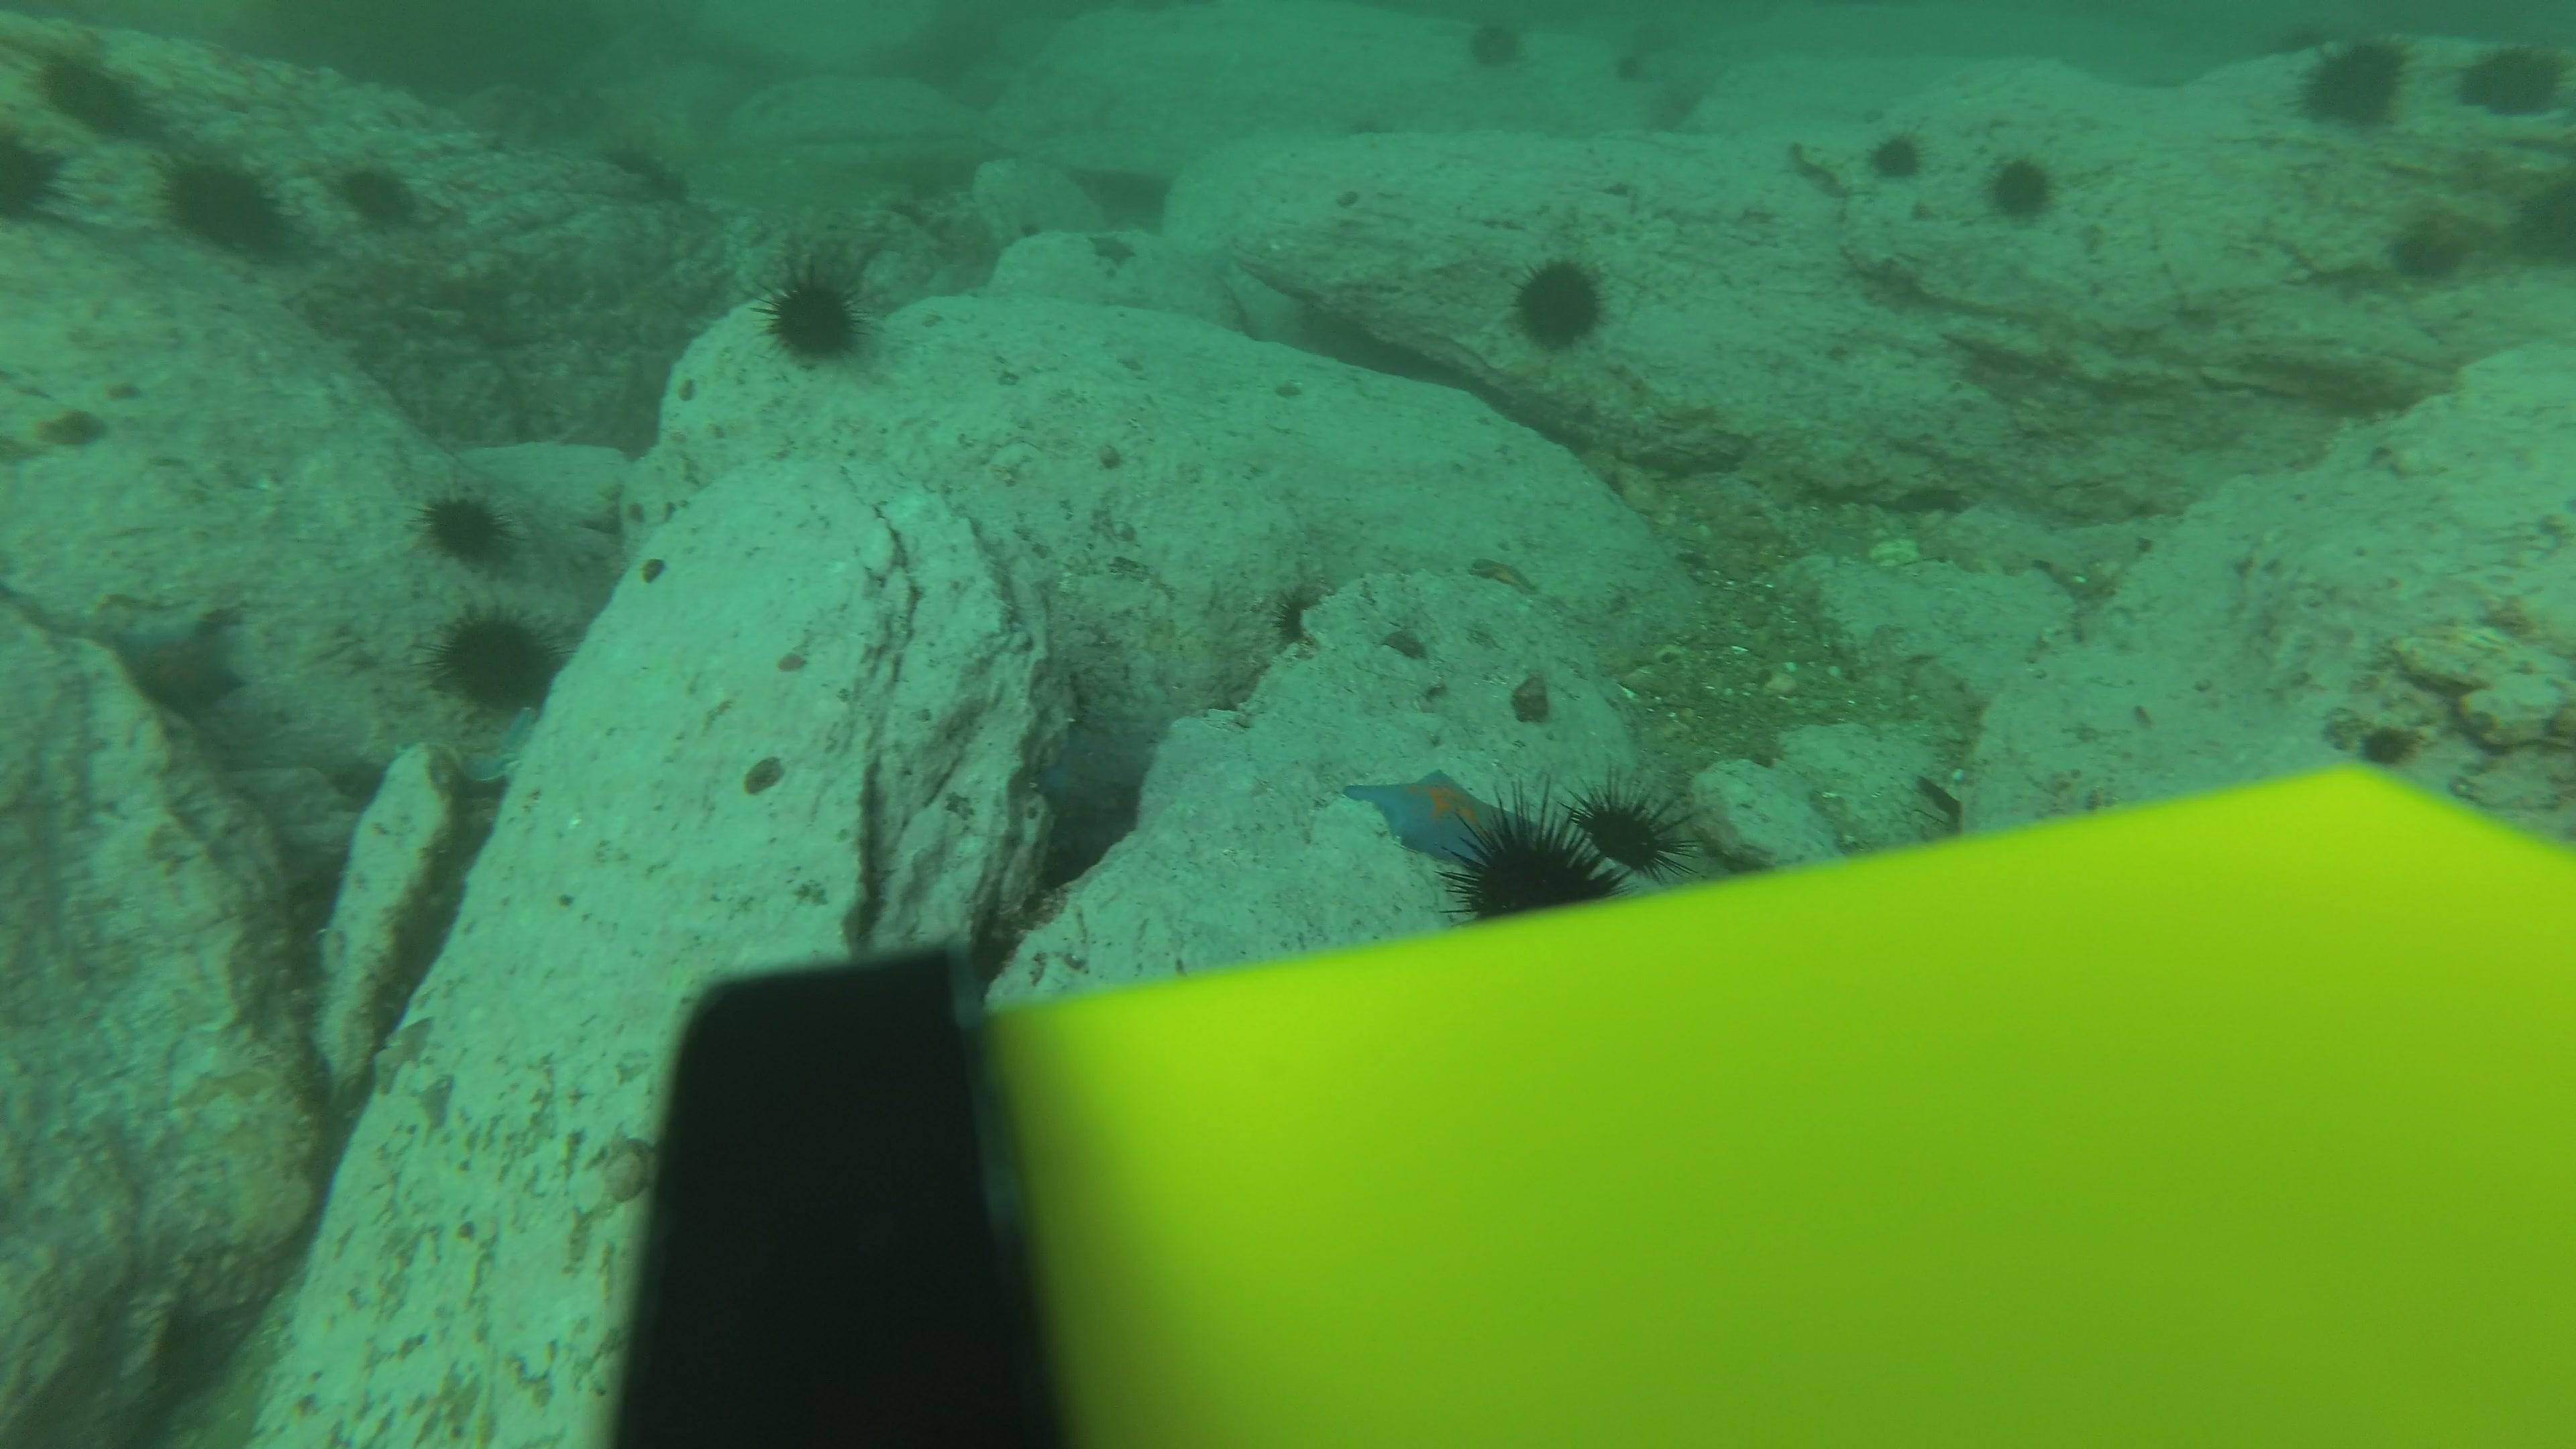echinus: (1447, 803, 1622, 922), (156, 147, 299, 262), (430, 603, 564, 718), (757, 260, 878, 370), (2289, 32, 2413, 134), (32, 39, 156, 140), (1566, 782, 1690, 881), (1506, 251, 1614, 354), (2452, 39, 2567, 122), (414, 481, 518, 571), (0, 119, 73, 234), (331, 154, 425, 234), (2383, 209, 2473, 285), (1982, 149, 2063, 225), (603, 136, 692, 205), (1460, 14, 1530, 76), (1865, 124, 1928, 184)
starfish: (104, 596, 253, 722), (1338, 763, 1513, 869), (1024, 711, 1152, 835), (451, 702, 541, 789), (1467, 545, 1543, 596), (1085, 228, 1139, 272)
